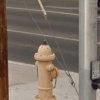Hydrant: (25, 29, 60, 100)
